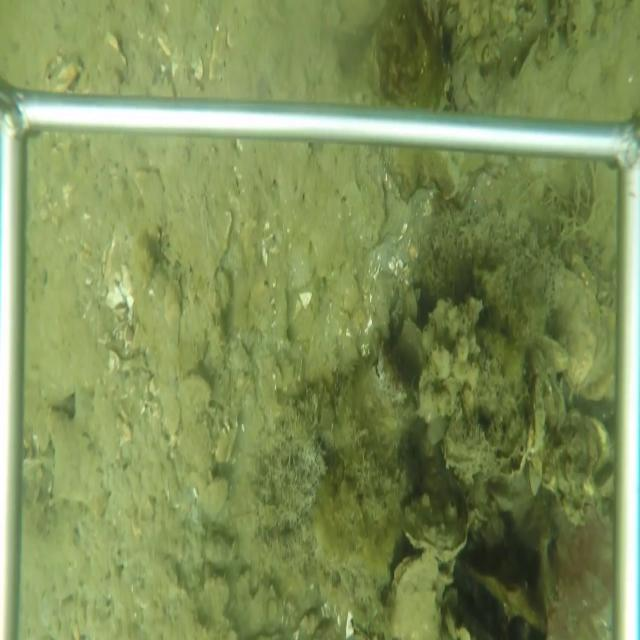Oyster-Closed: (544, 262, 601, 401), (383, 551, 446, 639), (400, 485, 471, 562), (511, 30, 542, 89)
Oyster-Open: (371, 339, 409, 414)
